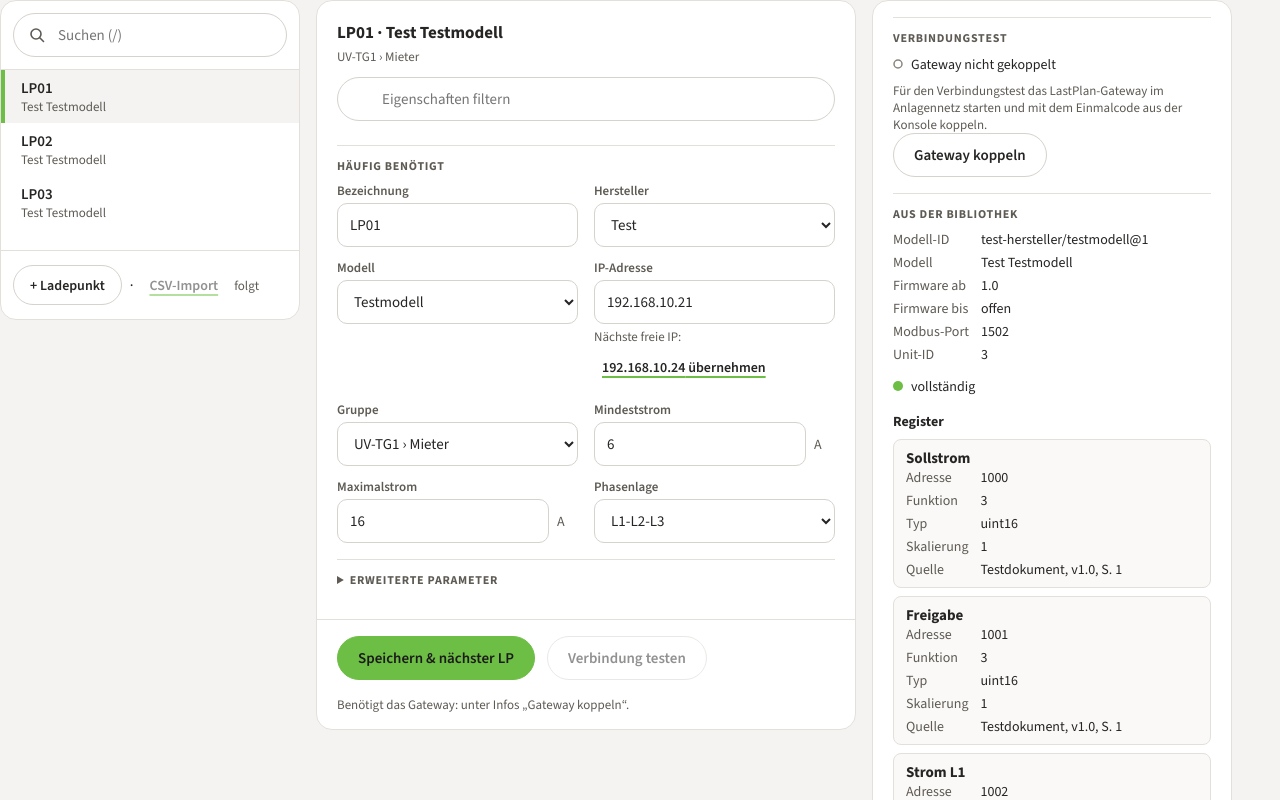
Test: Ladepunkte-Ansicht › ungültige IP zeigt Meldung am Feld und ändert nichts
The image size is (1280, 800).
Replace the text in the field labelled "IP-Adresse" with "999.1.1.1". click: (714, 302)
box: x1=594 y1=280 x2=835 y2=324
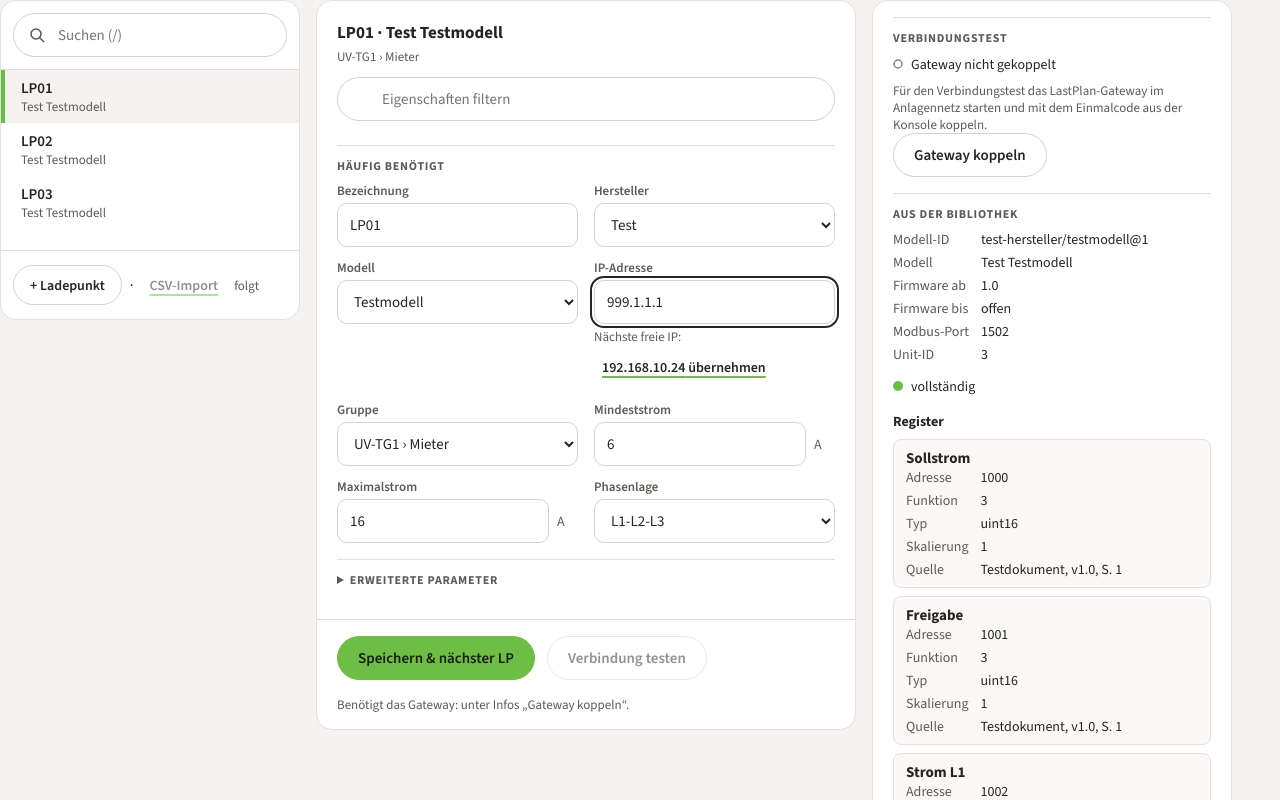
Press Tab
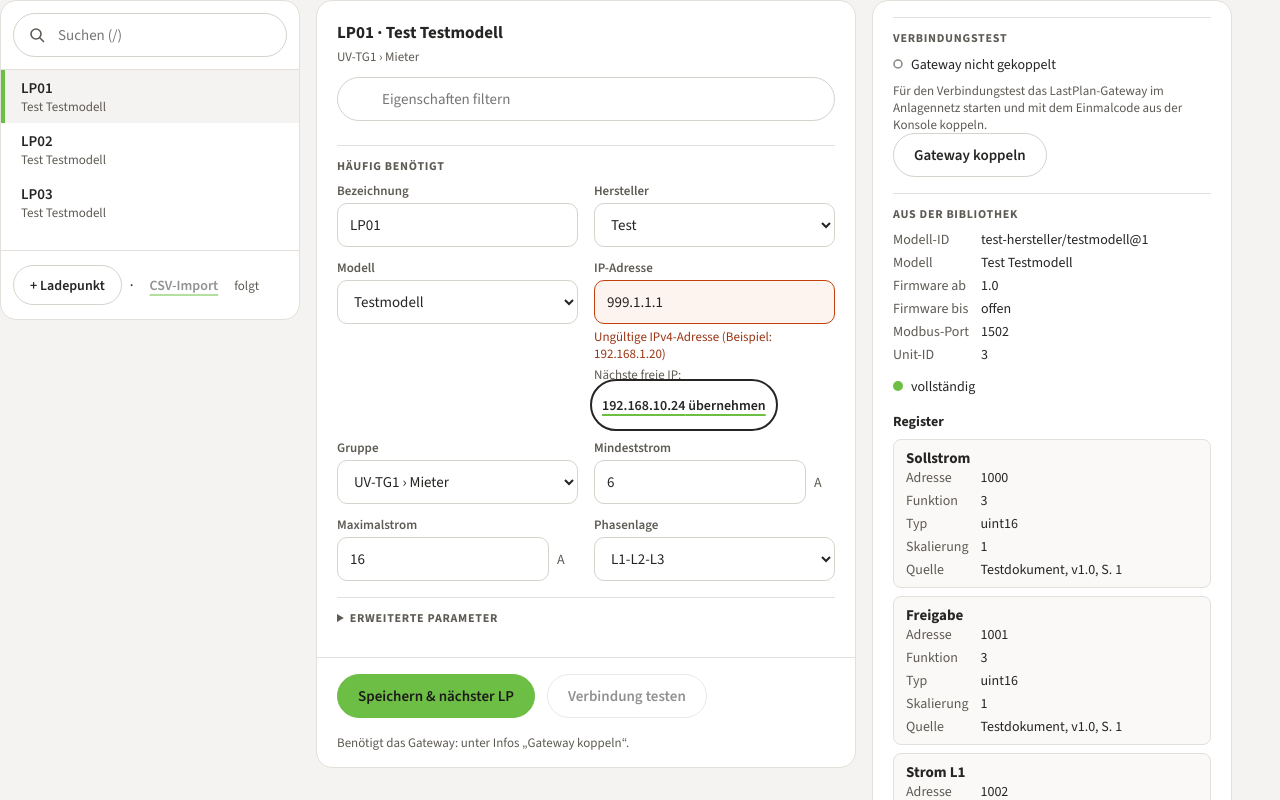
Check: the message shows "Ungültige IPv4-Adresse", box x1=594 y1=328 x2=772 y2=362
